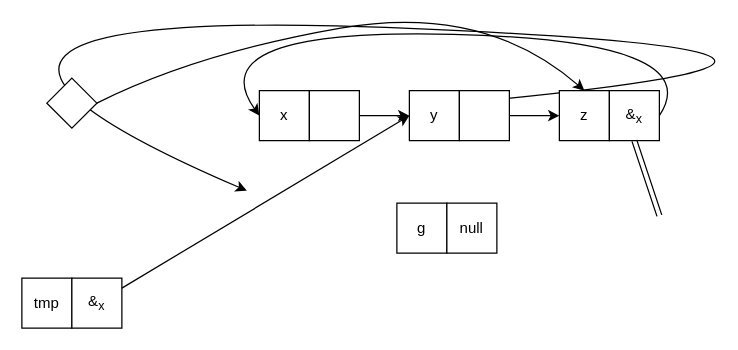
The diagram is 738 pixels wide and 350 high, and some of its shapes have lost their labels. Here are the shapes that lost their labels. From the top down, the box of each, then its label:
(46, 77, 97, 128): itr
(308, 89, 359, 141): & y
(458, 89, 509, 141): & z
